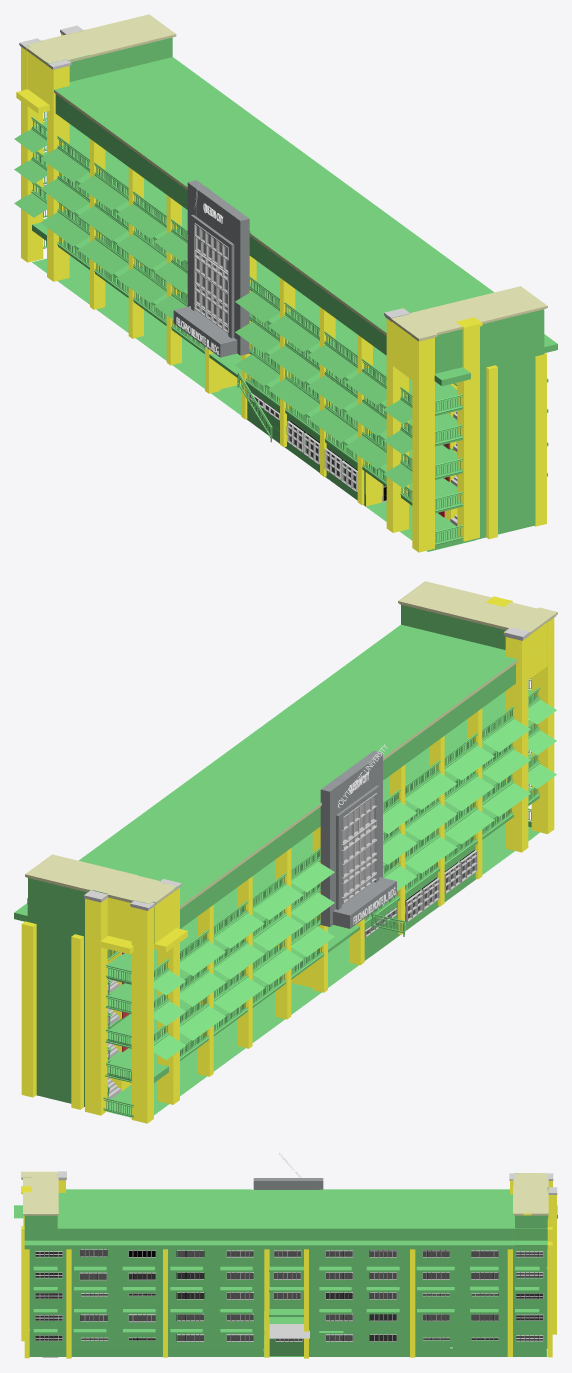
File: batasanBuilding.glb
3 renders of one model, top to bottom at view 1: azimuth 30°, elevation 25°; view 2: azimuth 150°, elevation 25°; view 3: azimuth 270°, elevation 25°, orthographic. The views are drawn at different scales.
Visible parts, largest first — view 1: Cube.130, Plane.012, Cube.540, Cube.043, Cube.002, Cube.001, Cube.036, Cube.003, Cube.005, Cube.004, Cube.027, Cube.024 (+6 smaller); view 2: Cube.130, Plane.012, Cube.540, Cube.043, Cube.004, Cube.006, Cube.003, Cube.036, Cube.002, Cube.026, Cube.028, Cube.005 (+7 smaller); view 3: Cube.130, Cube.006, Cube.043, Cube.026, Cube.023, Cube.024, Cube.021, Cube.025, Cube.016, Plane.001, Plane.002, Cube.018 (+2 smaller).
Part boxes in pixels (x1,y1,x2,y2): Cube.130: (16,14,557,551); Plane.012: (14,129,412,487); Cube.540: (31,117,462,511); Cube.043: (173,180,249,357); Cube.002: (410,328,437,552); Cube.001: (456,317,482,541); Cube.036: (194,223,228,332); Cube.003: (384,308,410,532); Cube.005: (47,59,71,281); Cube.004: (19,38,43,262); Cube.027: (486,365,497,539); Cube.024: (534,353,546,526); Cube.130: (14,581,549,1117); Plane.012: (153,699,556,1059); Cube.540: (154,678,540,1059); Cube.043: (320,750,396,928); Cube.004: (130,900,155,1123); Cube.006: (84,890,107,1115); Cube.003: (503,627,529,852); Cube.036: (341,793,376,903); Cube.002: (531,607,557,834); Cube.026: (21,921,36,1097); Cube.028: (71,934,83,1109); Cube.005: (157,879,181,1104); Cube.130: (14,1171,557,1356); Cube.006: (548,1187,557,1334); Cube.043: (253,1178,323,1189); Cube.026: (547,1241,552,1357); Cube.023: (66,1249,71,1358); Cube.024: (24,1249,29,1358); Cube.021: (410,1249,415,1357); Cube.025: (507,1249,512,1356); Cube.016: (264,1249,269,1357); Plane.001: (269,1338,303,1356); Plane.002: (269,1324,309,1338); Cube.018: (163,1249,167,1357).
Size of the model in its own units: 7.83 by 9.91 by 31.21.
